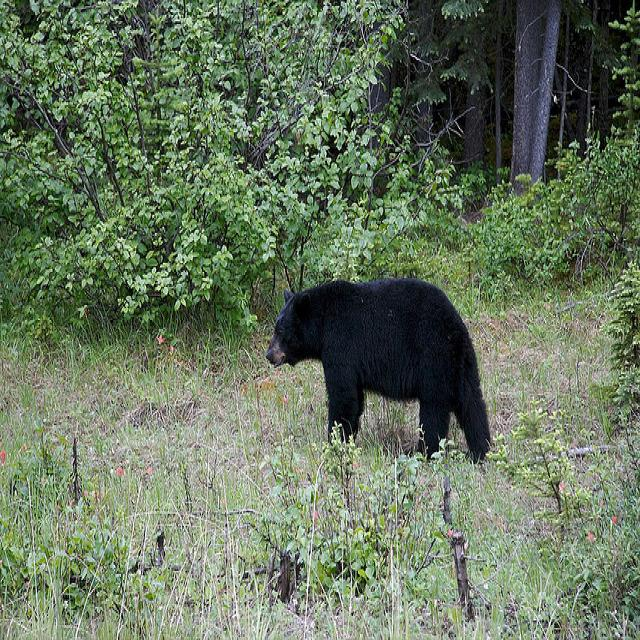Bear: (267, 275, 503, 461)
